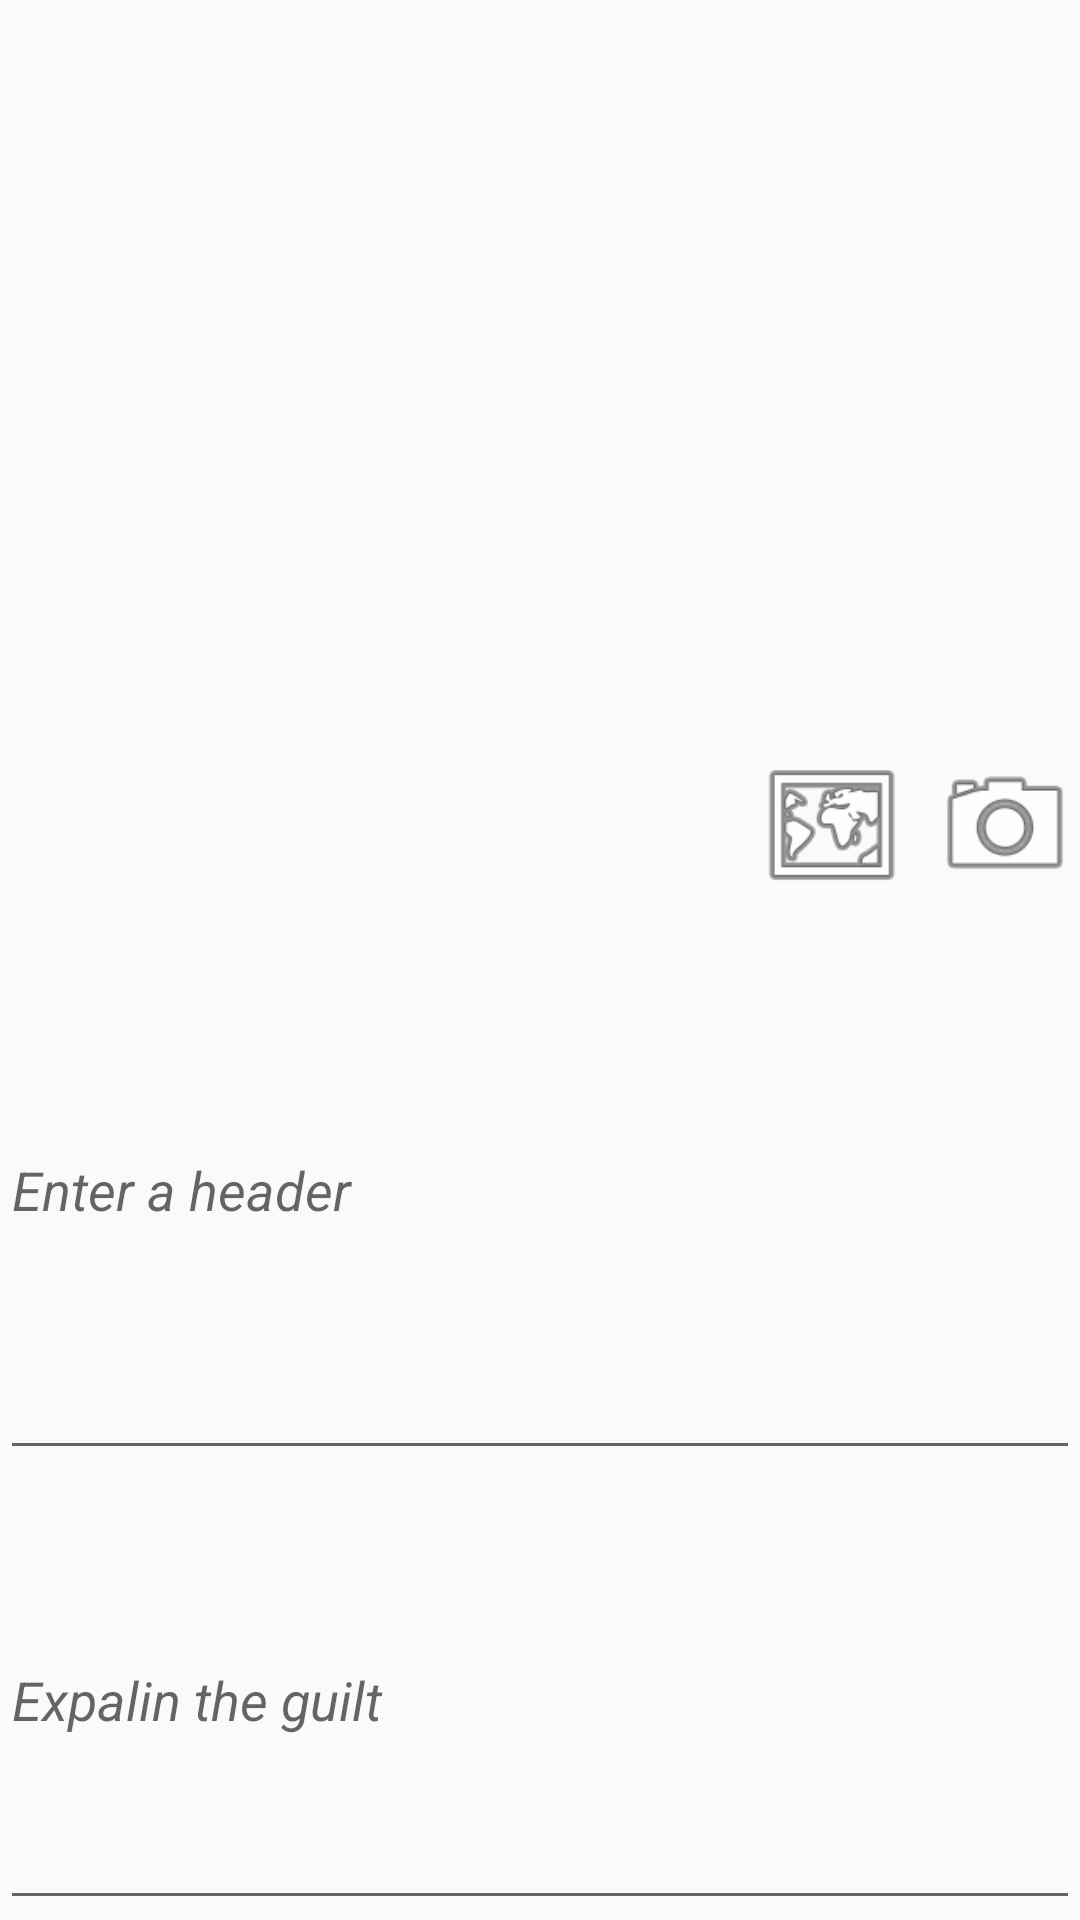

Icon bounding boxes for this 1080px×1920px phone screenshot, format region(x1, y1, x2, y2):
camera: region(947, 776, 1063, 869)
mapmode: region(769, 770, 894, 880)
